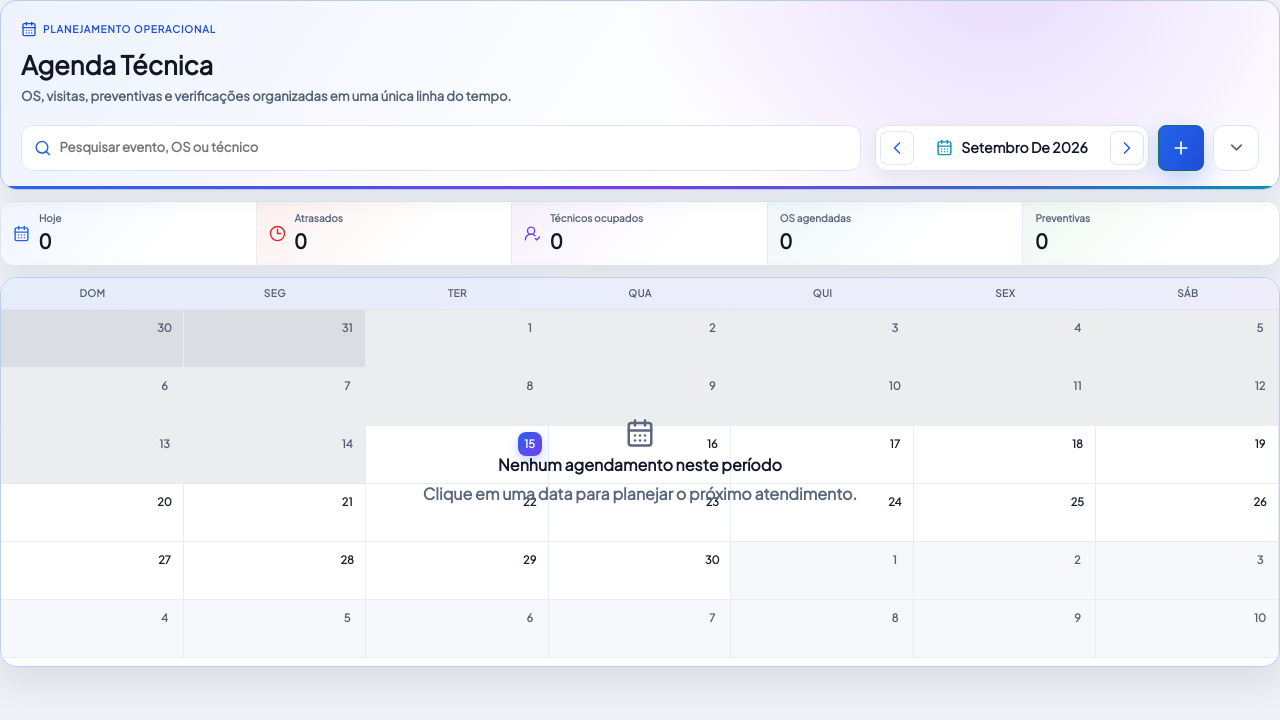
Test: TechnicalCalendarPage (fluxos) › abre o formulário pelo botão Novo agendamento e pelo número do dia
Click the button named "Novo agendamento" at (1181, 148), box [1158,125,1204,171]
(page scrolled)
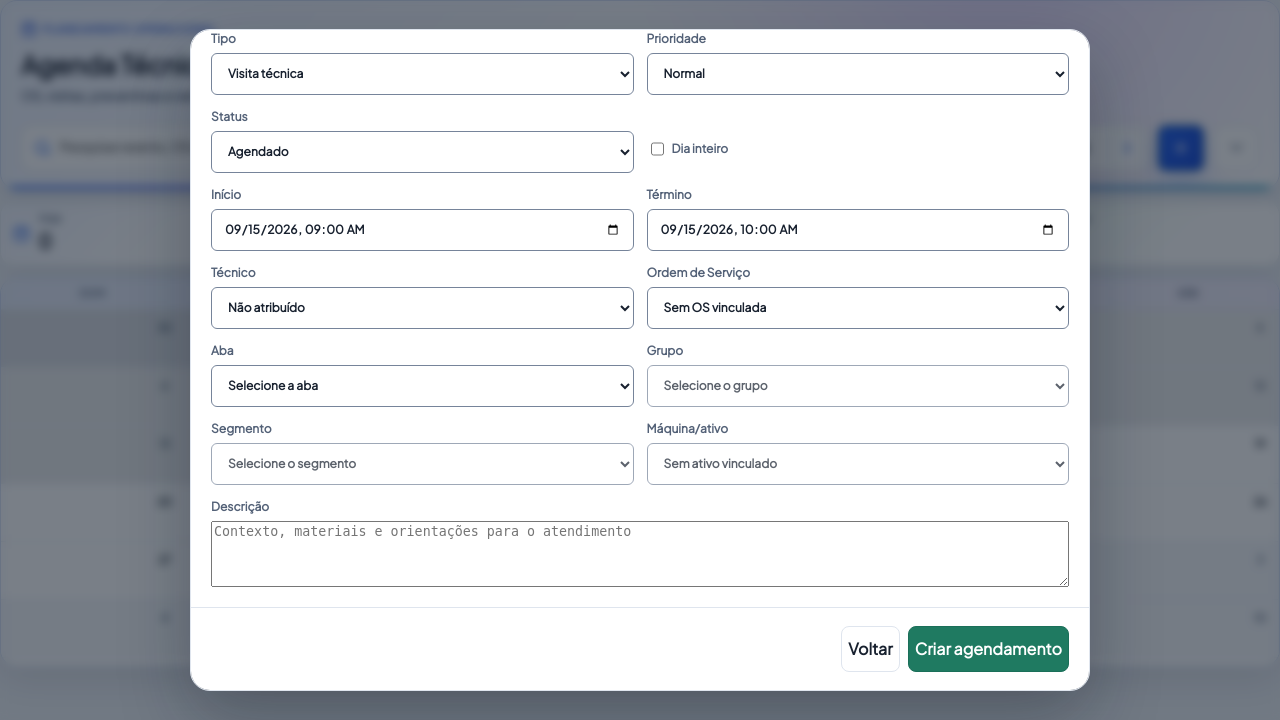
expect the dialog "Novo agendamento" is shown: met
Click the button "Voltar" at (870, 649), box [841,626,900,672]
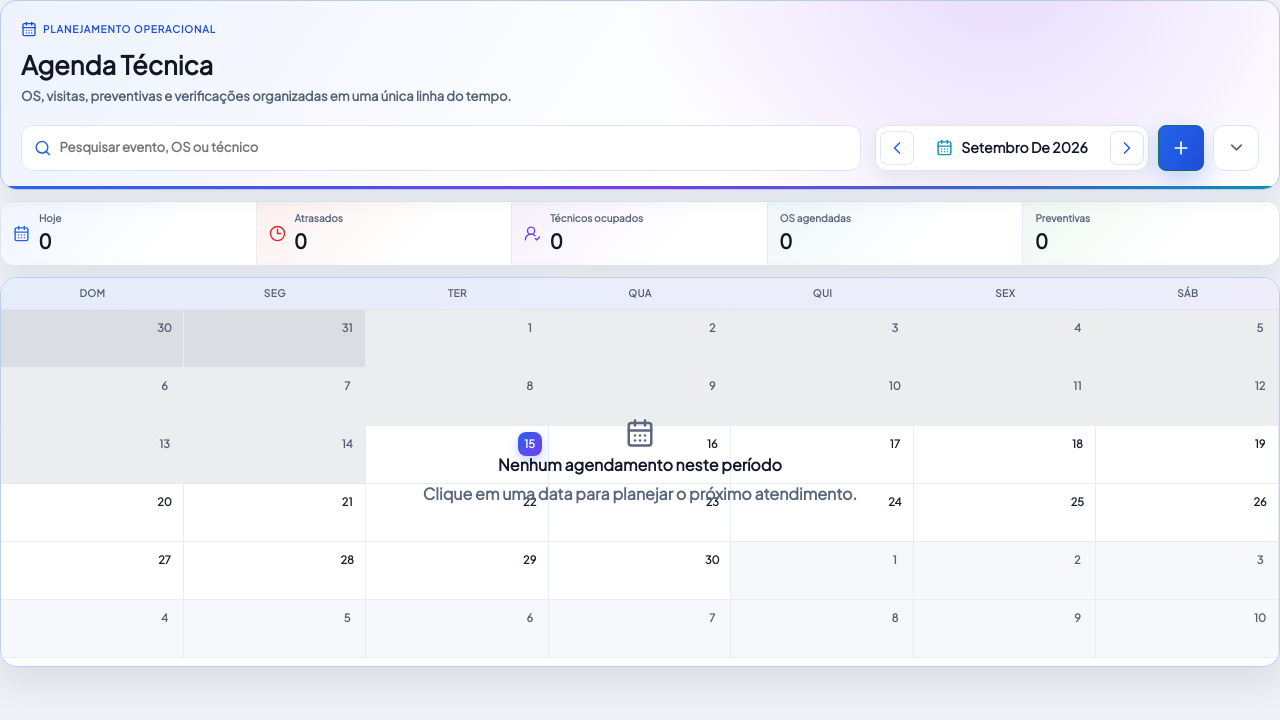
expect the dialog is gone: met
Click the button named "Novo agendamento em 20 de setembro de 2026" at (165, 502), box [153,490,177,514]
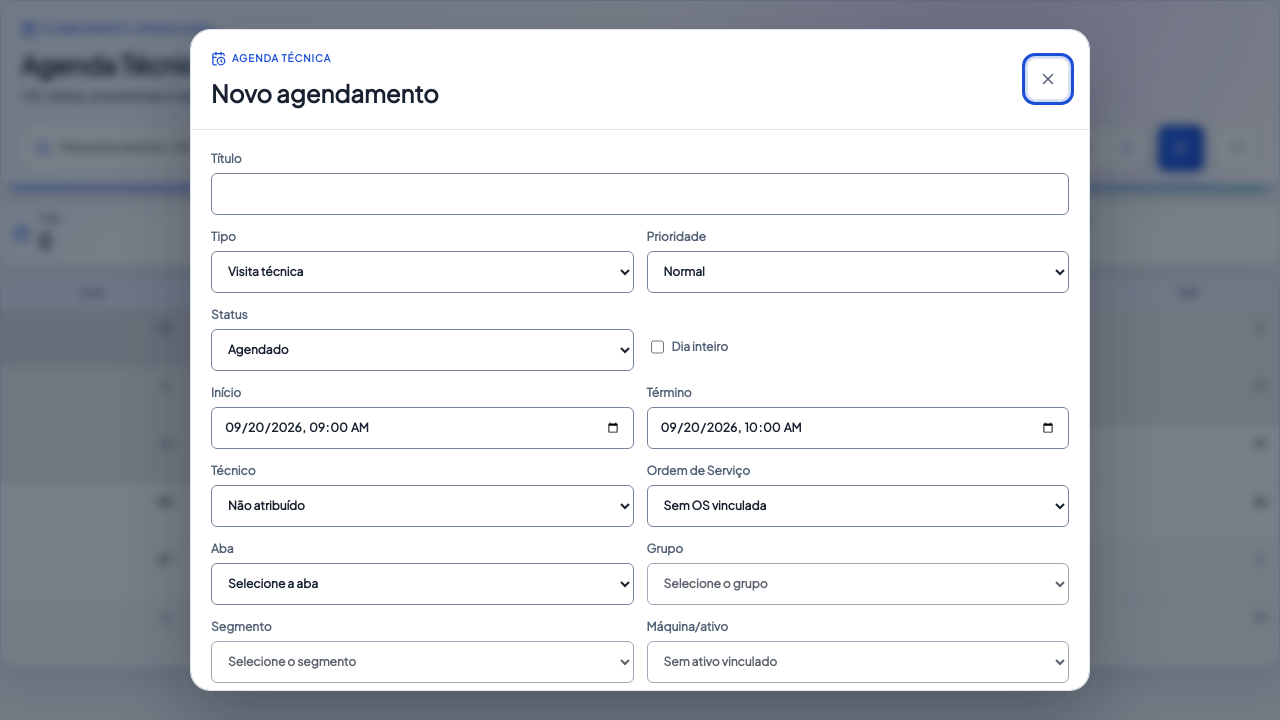
expect the field labelled "Início" holds "2026-09-20T09:00": met, box [211,407,634,449]
